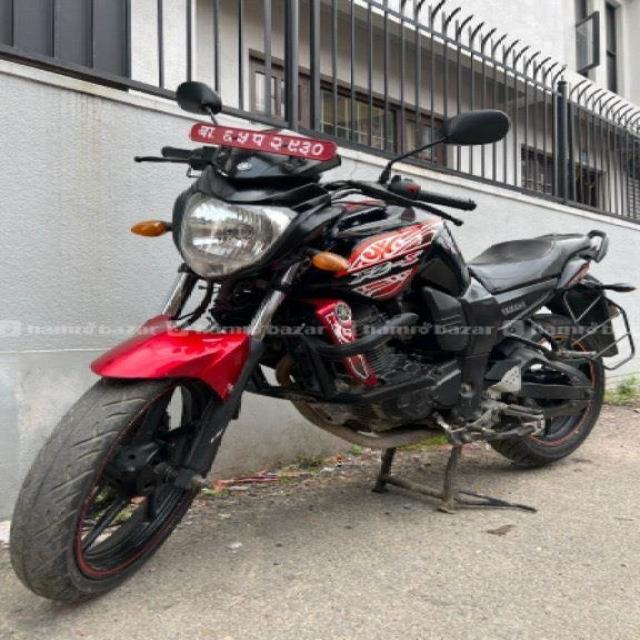License-plate: (193, 120, 338, 165)
